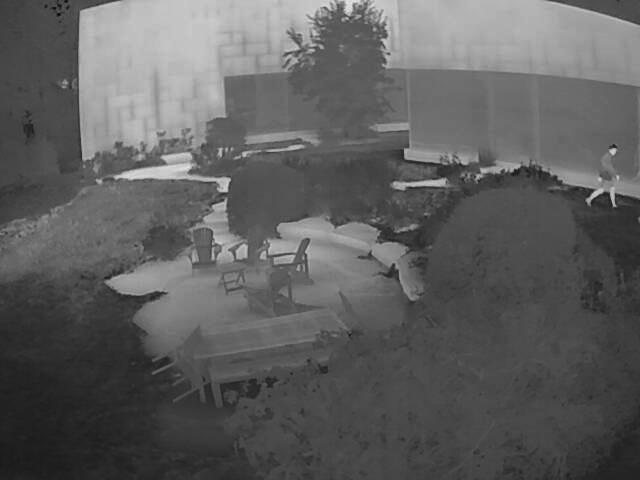person: (584, 142, 622, 209)
